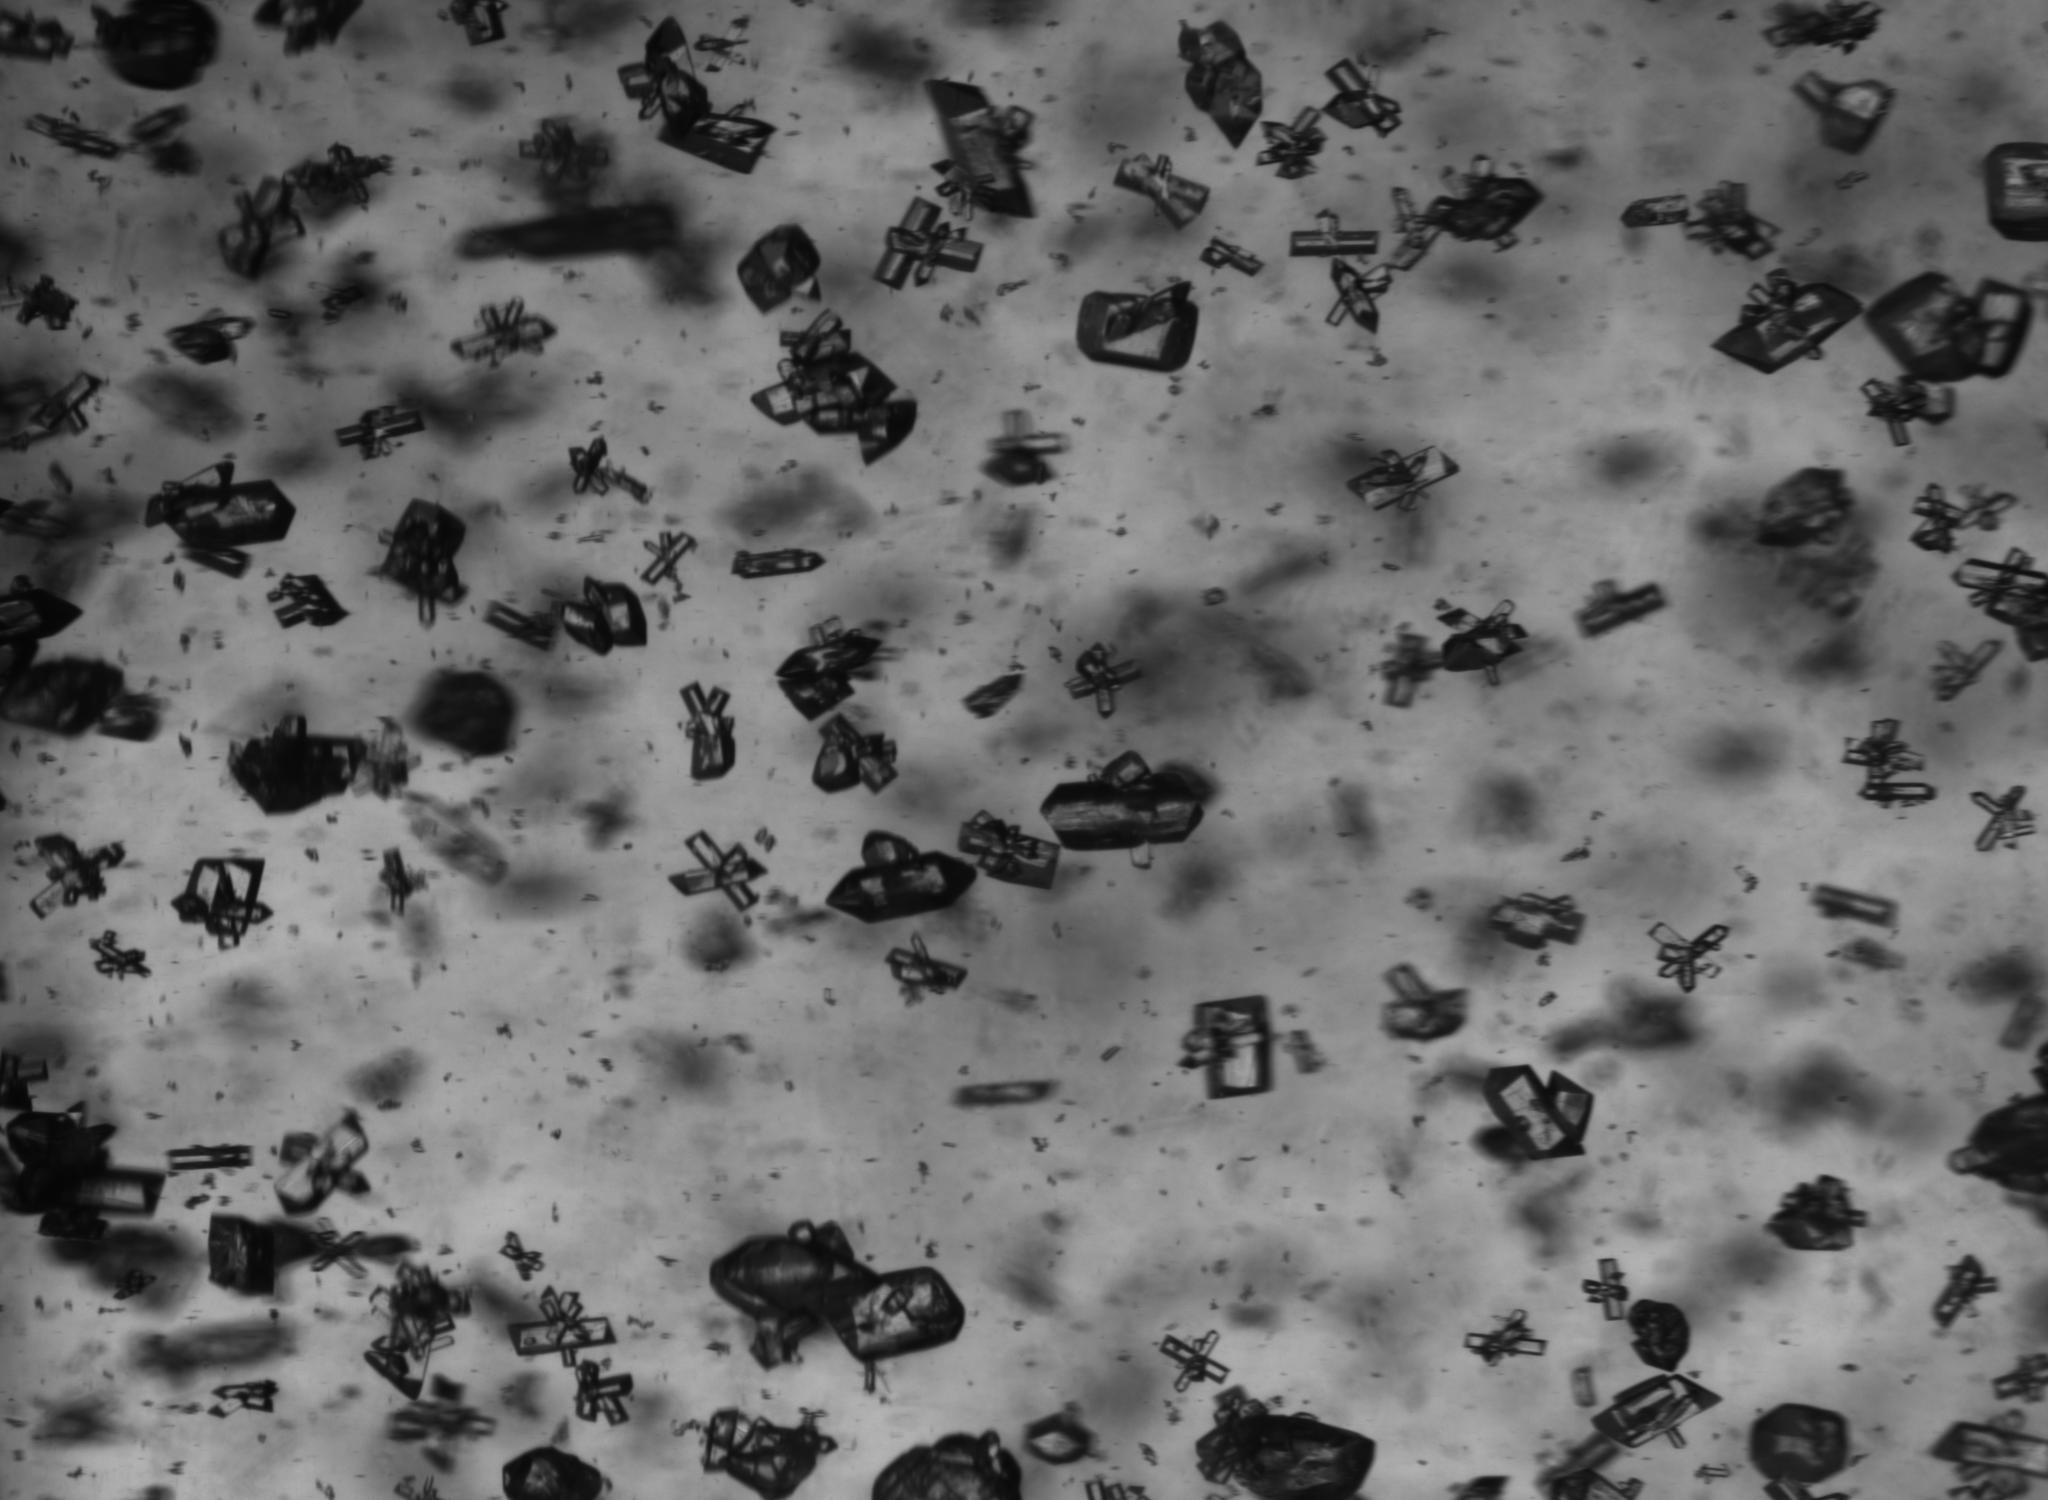crystal: (711, 1222, 965, 1387), (0, 574, 164, 740), (752, 310, 916, 464), (619, 17, 774, 173), (5, 1101, 167, 1242), (1040, 751, 1212, 870), (1196, 1389, 1375, 1500), (1864, 272, 2034, 383), (145, 460, 296, 577), (1390, 156, 1542, 272), (1949, 1042, 2048, 1222), (924, 80, 1035, 224), (363, 1257, 471, 1401), (1714, 270, 1862, 372), (366, 496, 467, 633), (827, 832, 976, 923), (227, 716, 364, 814), (701, 1408, 836, 1500), (1620, 183, 1778, 259), (1477, 1064, 1593, 1164), (1075, 280, 1197, 374), (95, 0, 218, 91), (776, 617, 882, 721), (1953, 549, 2048, 662), (1930, 1409, 2048, 1500), (1178, 22, 1263, 148), (871, 1432, 1021, 1500), (273, 1110, 369, 1215), (875, 197, 983, 290), (1593, 1373, 1720, 1449), (1178, 996, 1272, 1099), (216, 175, 305, 283), (172, 856, 272, 948), (507, 1285, 615, 1366), (1843, 719, 1937, 808), (1749, 1403, 1849, 1486), (1794, 72, 1894, 154), (1752, 468, 1854, 549), (957, 811, 1061, 889), (1765, 1174, 1868, 1252), (0, 372, 103, 450), (448, 297, 560, 369), (30, 834, 126, 916), (669, 830, 766, 911), (736, 224, 820, 313), (1910, 484, 2016, 554), (1539, 1430, 1643, 1500), (560, 574, 647, 657), (1115, 154, 1210, 229), (1347, 445, 1458, 509), (1437, 604, 1528, 682), (811, 713, 897, 794), (1382, 962, 1468, 1042), (976, 409, 1064, 487), (281, 142, 385, 207), (1860, 375, 1956, 445), (307, 1215, 412, 1279), (251, 0, 367, 57), (1983, 142, 2048, 242), (1485, 892, 1585, 958), (1321, 57, 1401, 137), (677, 678, 738, 781), (1763, 0, 1881, 52), (348, 721, 423, 802), (520, 119, 609, 186), (566, 433, 647, 504), (1647, 923, 1730, 993), (886, 934, 967, 1004), (207, 1214, 273, 1296), (1067, 644, 1140, 717), (502, 1448, 604, 1500), (334, 406, 426, 461), (1256, 108, 1328, 180), (1377, 635, 1447, 708), (1930, 1255, 1999, 1328), (1929, 638, 2005, 701), (266, 573, 350, 630), (1577, 582, 1666, 636), (1328, 259, 1391, 334), (162, 317, 254, 367), (1625, 1300, 1690, 1371), (27, 115, 130, 159), (1288, 210, 1380, 259), (1970, 784, 2035, 853), (0, 8, 76, 65), (1159, 1330, 1229, 1392), (482, 598, 555, 654), (1811, 884, 1899, 931), (1464, 1308, 1546, 1355), (574, 1360, 633, 1425), (639, 531, 696, 598), (1022, 1413, 1092, 1465), (16, 272, 80, 329), (1581, 1257, 1631, 1320), (0, 1048, 49, 1113), (91, 929, 149, 980), (962, 670, 1024, 717), (952, 1078, 1056, 1107), (447, 2, 510, 48), (731, 549, 825, 579), (1992, 1352, 2048, 1403), (207, 1379, 278, 1417), (378, 846, 415, 918), (165, 1144, 251, 1174), (1200, 237, 1263, 277), (499, 1230, 544, 1282), (1490, 1077, 1507, 1113)
